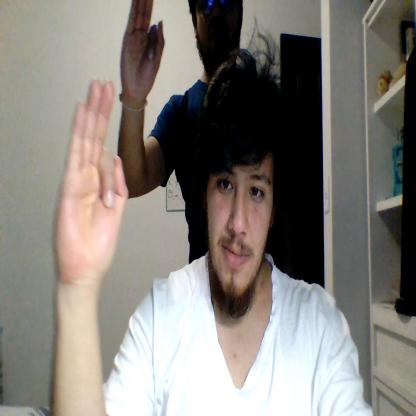F: (52, 78, 128, 282), (121, 0, 164, 98)
